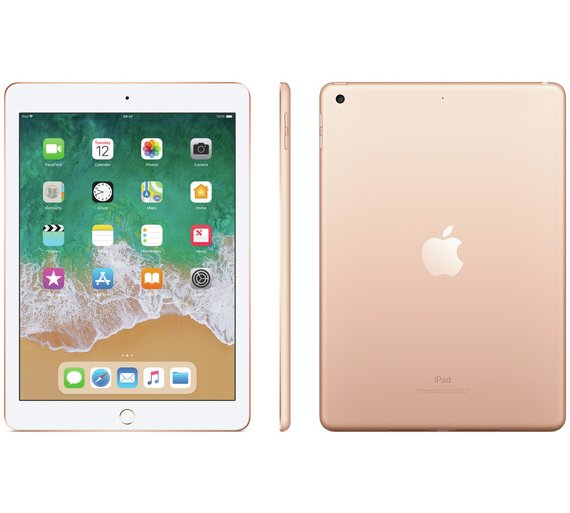apple: (411, 213, 479, 288)
